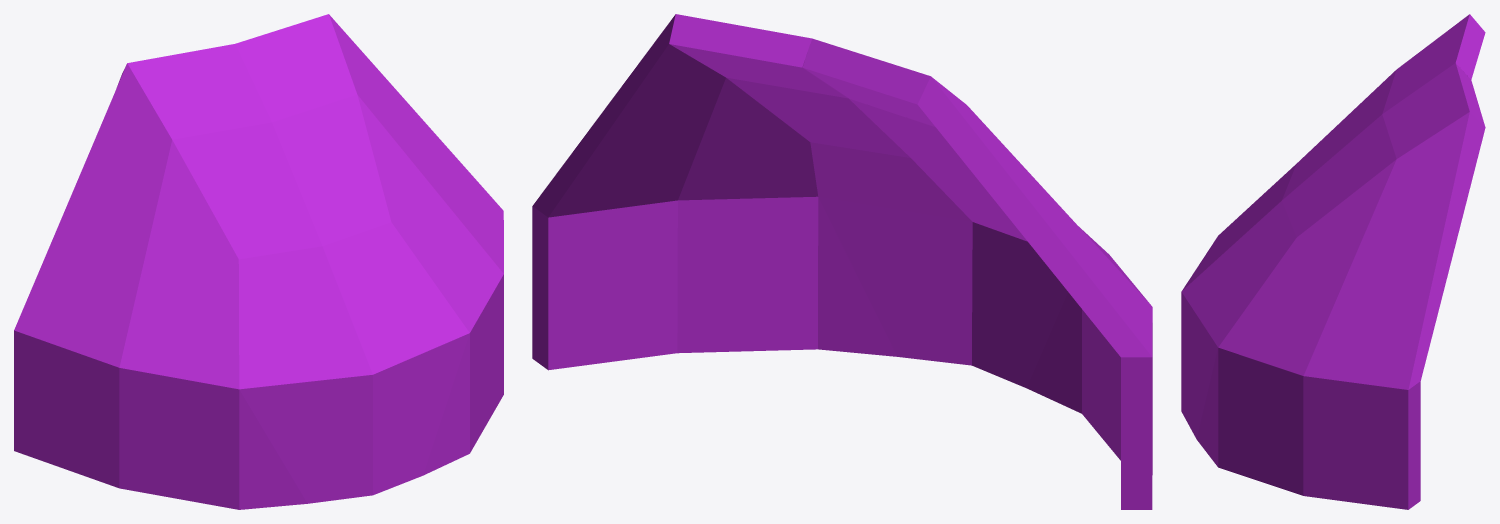
File: Hood2.fbx
3 views of the same model, side by side, from view 1: azimuth 30°, elevation 25°; view 2: azimuth 150°, elevation 25°; view 3: azimuth 270°, elevation 25° (orthographic). The views are drawn at different scales.
Parts seen in each view (by area): view 1: Hood2; view 2: Hood2; view 3: Hood2.
Part boxes in pixels (<box>): Hood2: <box>14,14,503,509</box>; Hood2: <box>532,14,1152,509</box>; Hood2: <box>1181,14,1485,509</box>.
Bounding box in the file's own units: 696 × 476 × 377.
